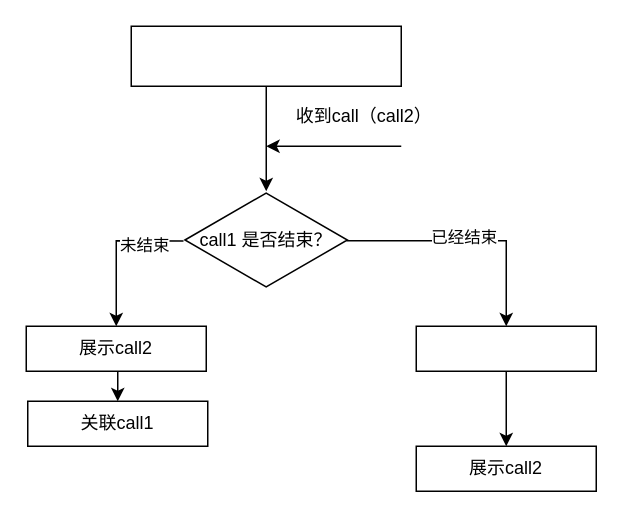
The diagram is 623 pixels wide and 518 high, and some of its shapes have lost their labels. The shapes that lost their labels are listed below. From the top down, each one's centre as x and y in pixels, then its label:
At (x=265, y=55): "当前有一个callWindow（call1）".
At (x=505, y=348): "清理Call1".
